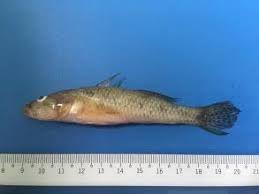Goby: (22, 77, 241, 138)
